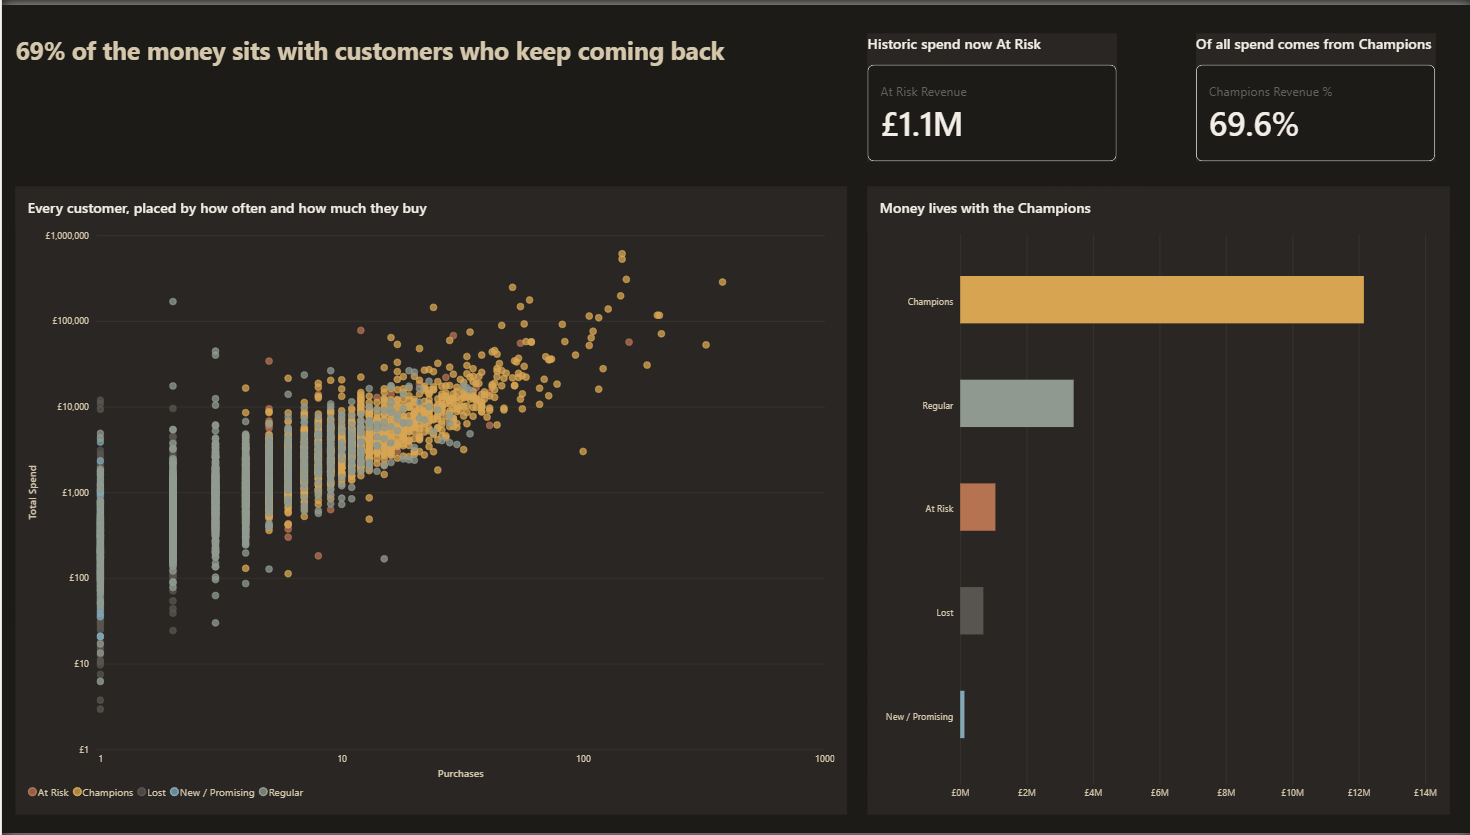

Layout of this report page (visuals, bound fields, positions):
{"tool":"powerbi","page":{"name":"Customer Segments","canvas":[1920,1080],"ordinal":1},"visuals":[{"type":"scatterChart","title":"Every customer, placed by how often and how much they buy","fields":{"Category":["fct_customer_rfm.customer_id"],"Series":["fct_customer_rfm.segment"],"X":["Sum(fct_customer_rfm.frequency)"],"Y":["Sum(fct_customer_rfm.monetary)"]},"box":[17.5,237.5,1085,820],"z":0},{"type":"clusteredBarChart","title":"Money lives with the Champions","fields":{"Category":["fct_customer_rfm.segment"],"Y":["fct_customer_rfm.Segment Revenue"]},"box":[1130,237.5,760,820],"z":1},{"type":"cardVisual","title":"Historic spend now At Risk","fields":{"Data":["fct_customer_rfm.At Risk Revenue"]},"box":[1130,37.5,325,167.5],"z":2},{"type":"cardVisual","title":"Of all spend comes from Champions","fields":{"Data":["fct_customer_rfm.Champions Revenue %"]},"box":[1557.5,37.5,312.5,167.5],"z":3},{"type":"textbox","box":[17.5,37.5,942.5,167.5],"z":4}]}

Visuals, with their boxes in screenshot pixels (x1, y1, x2, y2), scaled from the page's 1920x1080 canvas onto the 1470x835 screenshot:
"Every customer, placed by how often and how much they buy" scatterChart: [13,184,844,818]
"Money lives with the Champions" clusteredBarChart: [865,184,1447,818]
"Historic spend now At Risk" cardVisual: [865,29,1114,158]
"Of all spend comes from Champions" cardVisual: [1192,29,1432,158]
textbox: [13,29,735,158]
